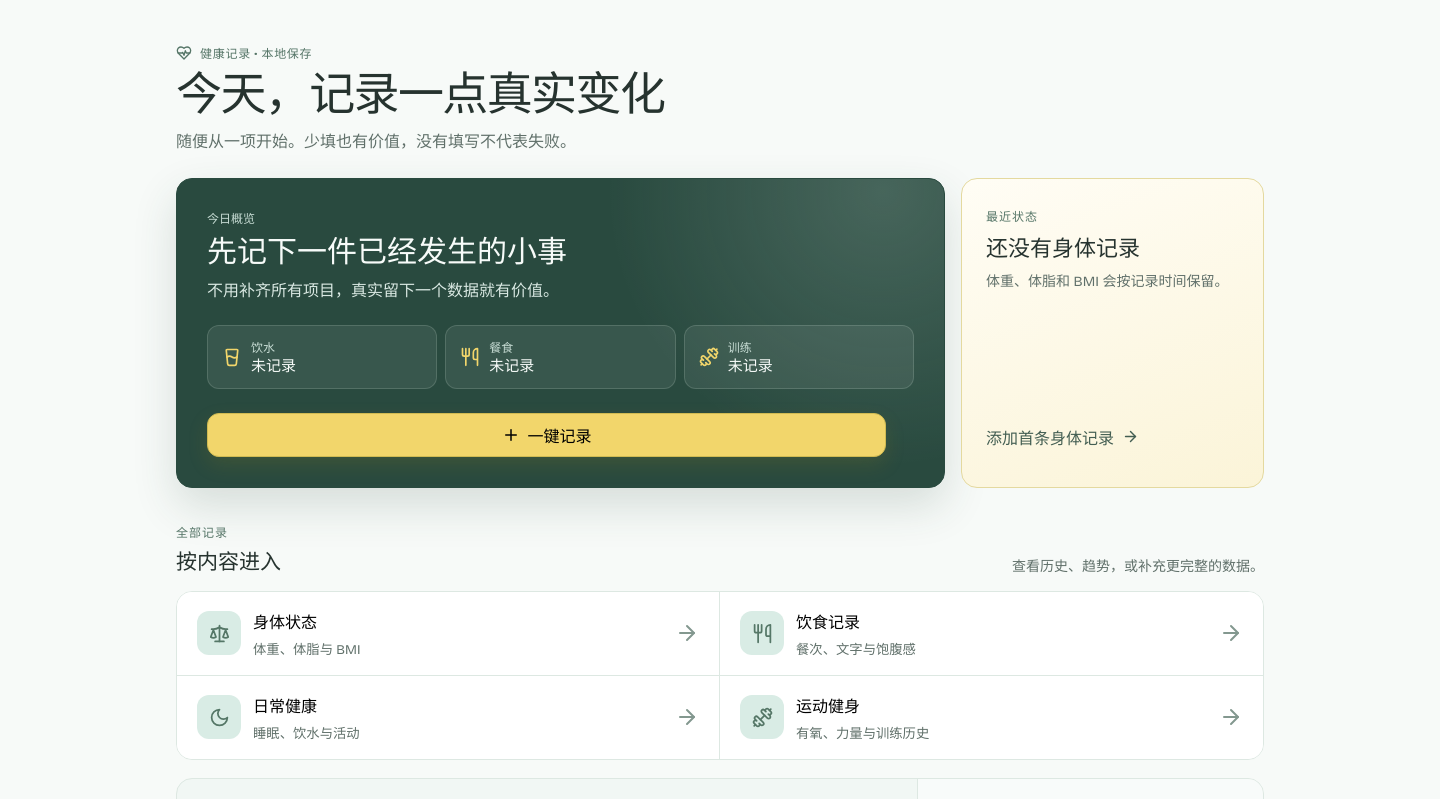
HealthModule › uses a today-first home and one accessible quick-record chooser
Expected: the heading "今天，记录一点真实变化" is shown, [176, 67, 664, 122]
Expected: the text "今日概览" is shown, [207, 212, 255, 226]
Click the button "一键记录": (546, 435) [207, 413, 886, 457]
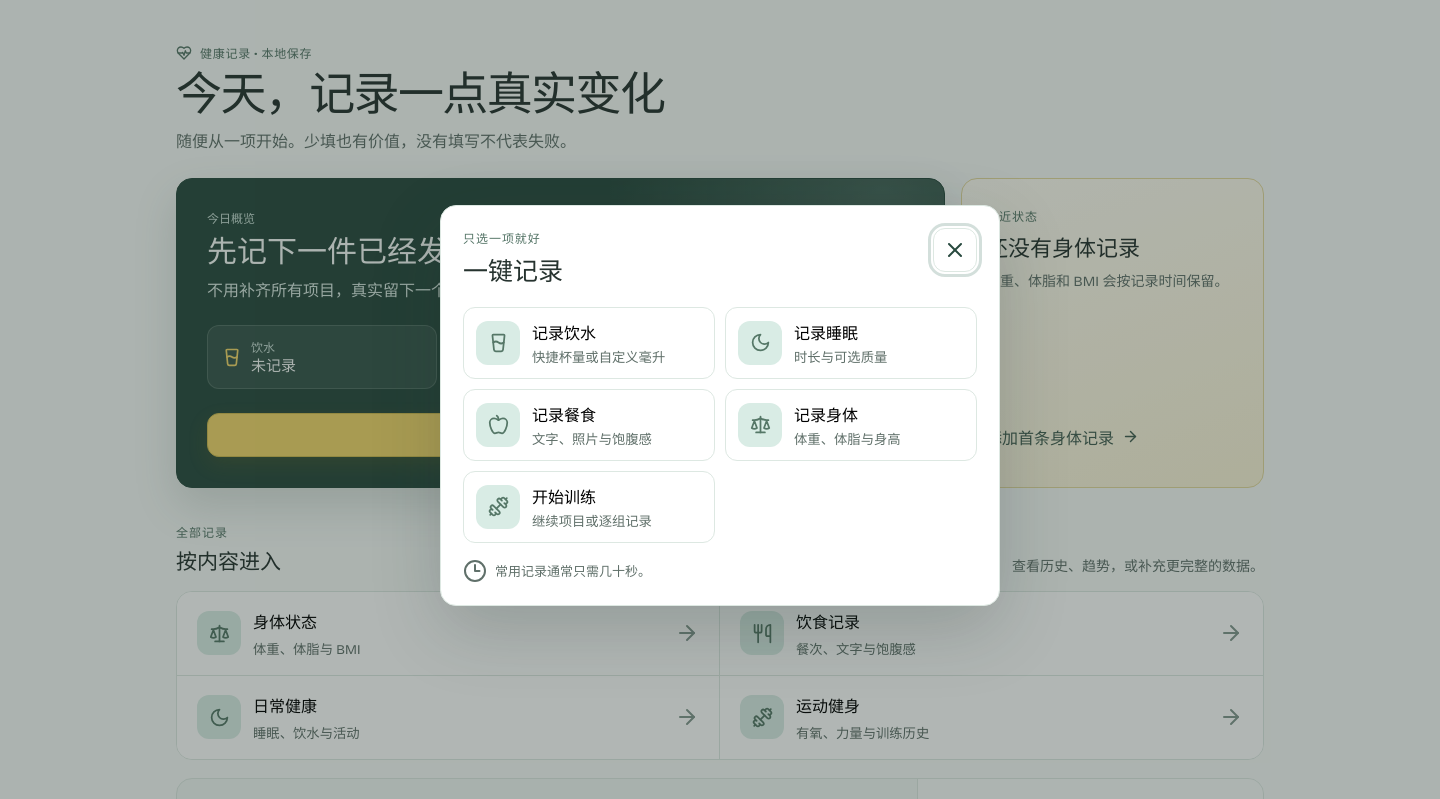
Result: the dialog "一键记录" is shown at [440, 204, 1000, 606]
Result: the button "记录身体 体重、体脂与身高" is shown
Click the button "记录身体 体重、体脂与身高": (851, 424) [725, 388, 977, 460]
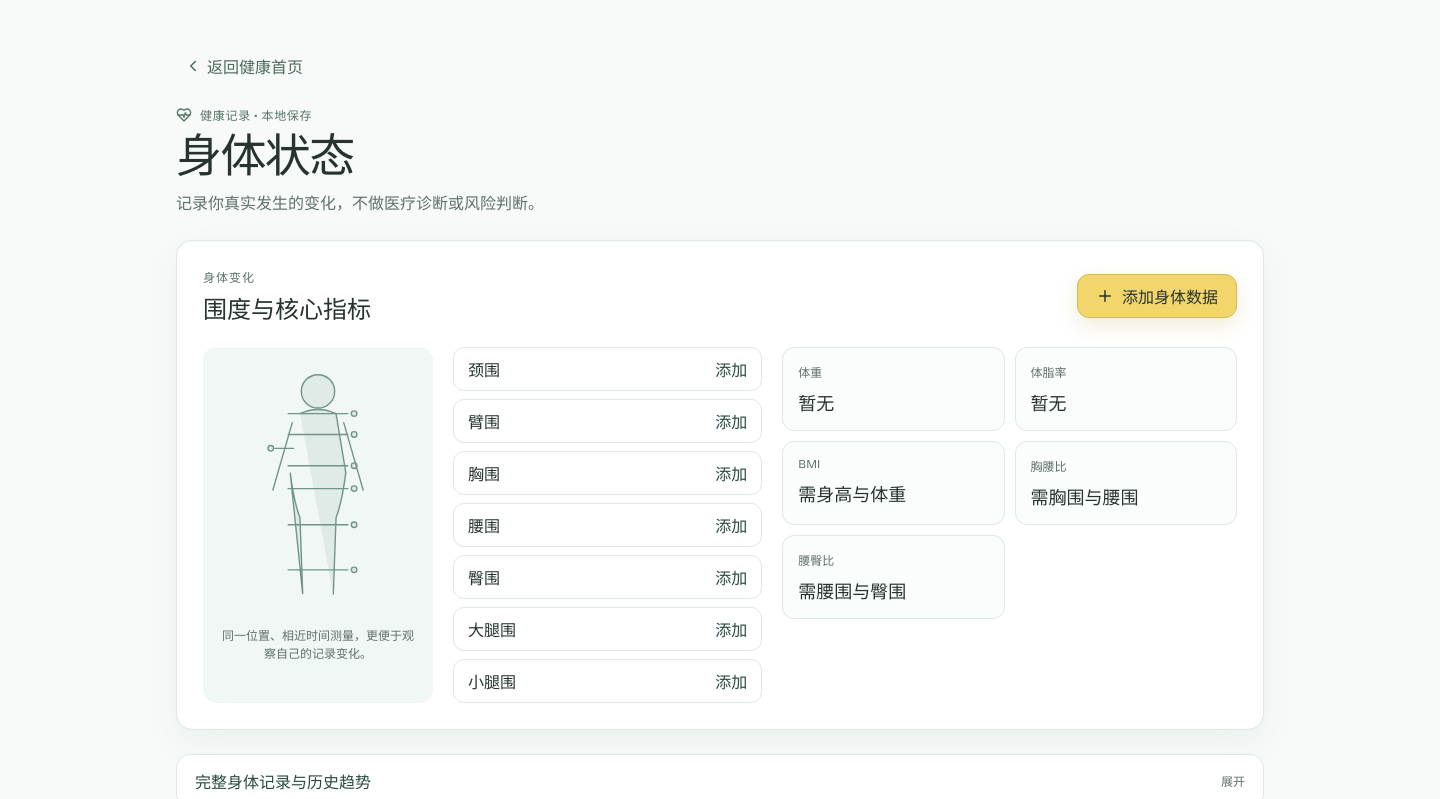
Result: the button "一键记录" is gone
Result: the heading "身体状态" is shown at [176, 129, 354, 184]
